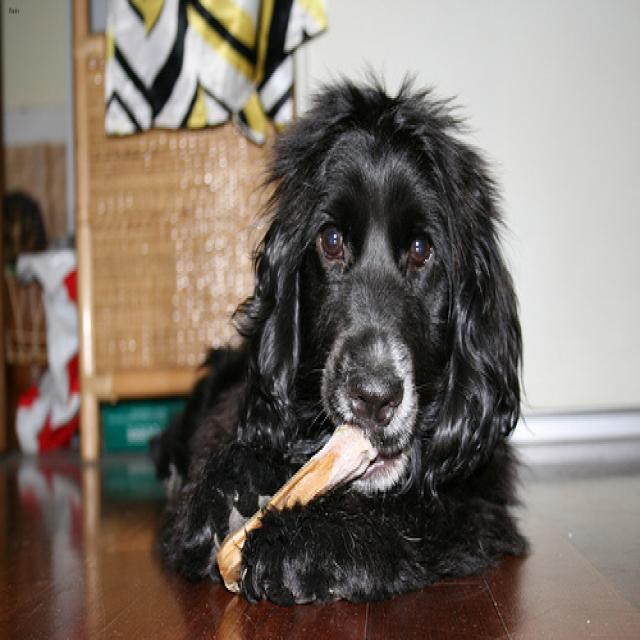dog-english_cocker_spaniel: (138, 65, 536, 611)
